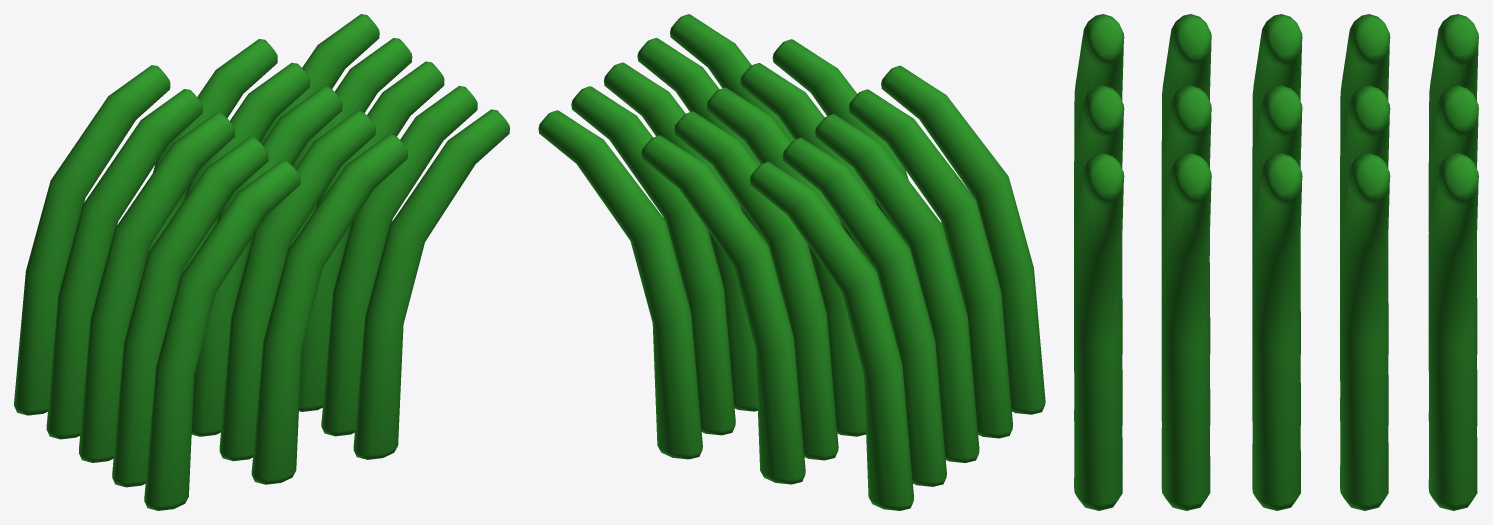
File: Grass.fbx
3 renders of one model, left to right at view 1: azimuth 30°, elevation 25°; view 2: azimuth 150°, elevation 25°; view 3: azimuth 270°, elevation 25°, orthographic. The views are drawn at different scales.
Visible parts, largest first — view 1: Cylinder.002; view 2: Cylinder.002; view 3: Cylinder.002.
Boxes of the visible parts, x1,y1,x2,y2 form: Cylinder.002: [14, 14, 509, 510]; Cylinder.002: [538, 14, 1045, 510]; Cylinder.002: [1074, 14, 1478, 510].
Size of the model in its own units: 245 by 199 by 173.
